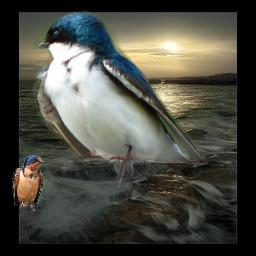Swallow: (32, 9, 208, 188), (12, 155, 45, 212)
